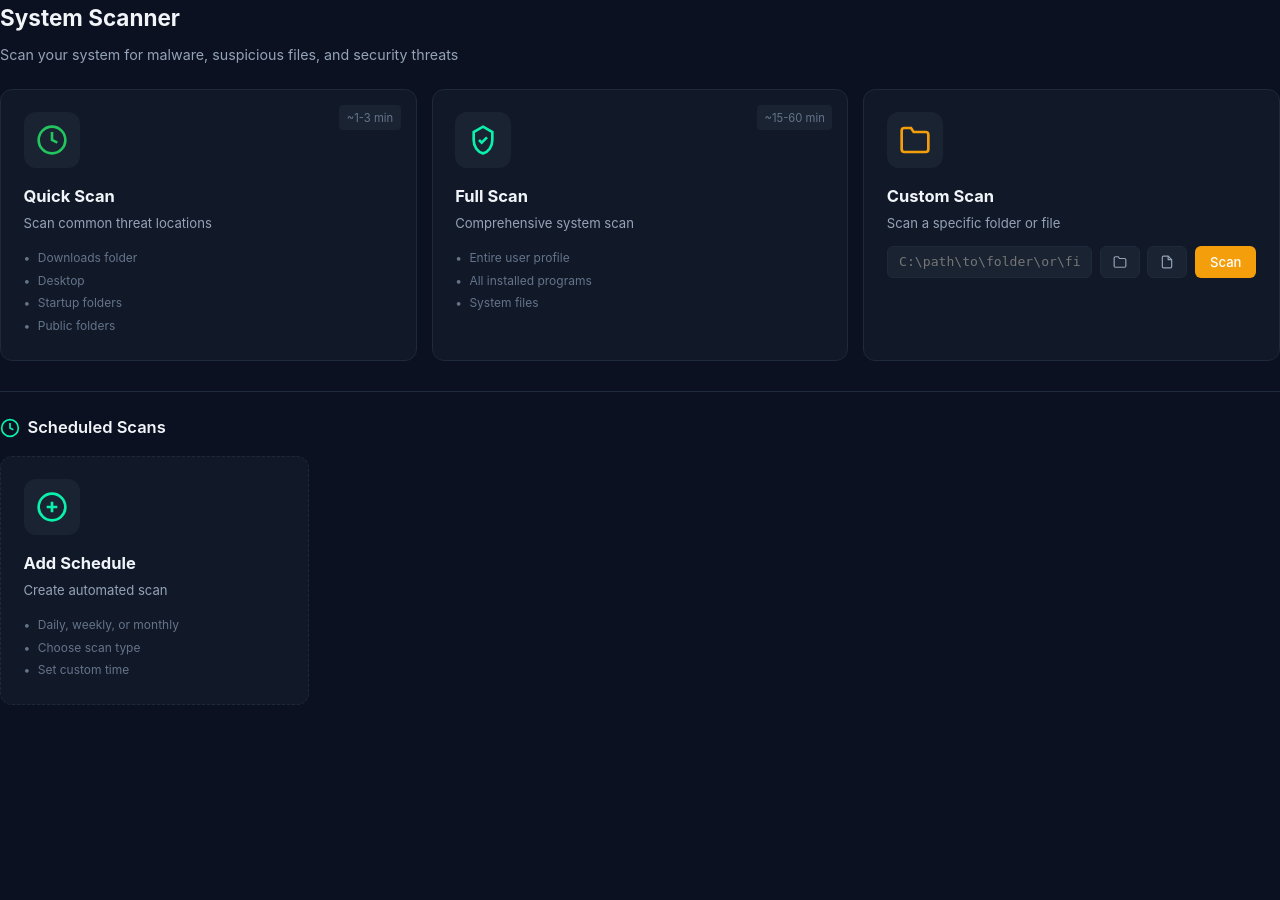
Test case: Scanner › shows a whitelisted status after trusting a detected file
Click the heading "Quick Scan".
click(69, 196)  # box [24,186,115,206]
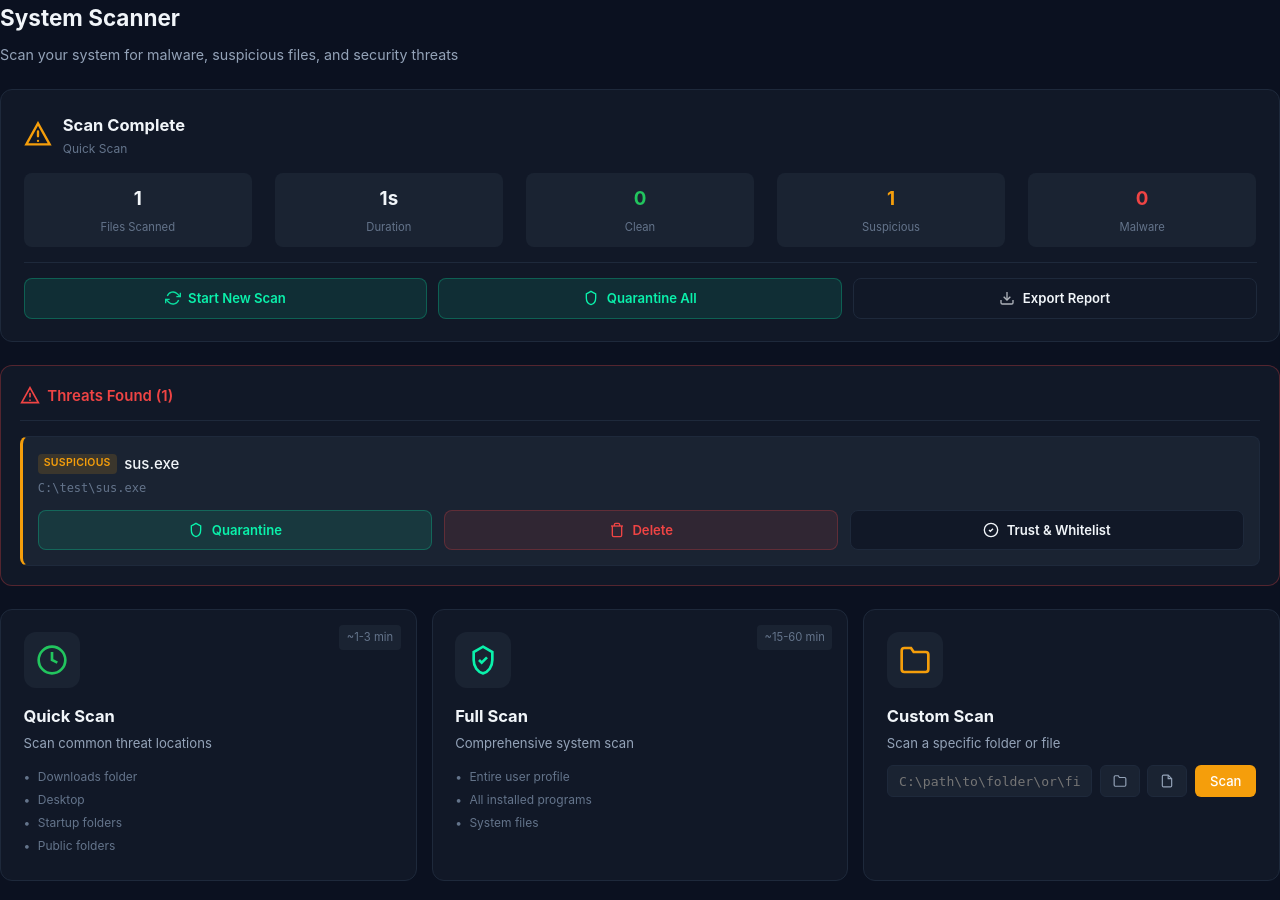
Result: the button "Trust & Whitelist" is shown
Click the button "Trust & Whitelist".
click(1047, 530)  # box [850,510,1244,550]
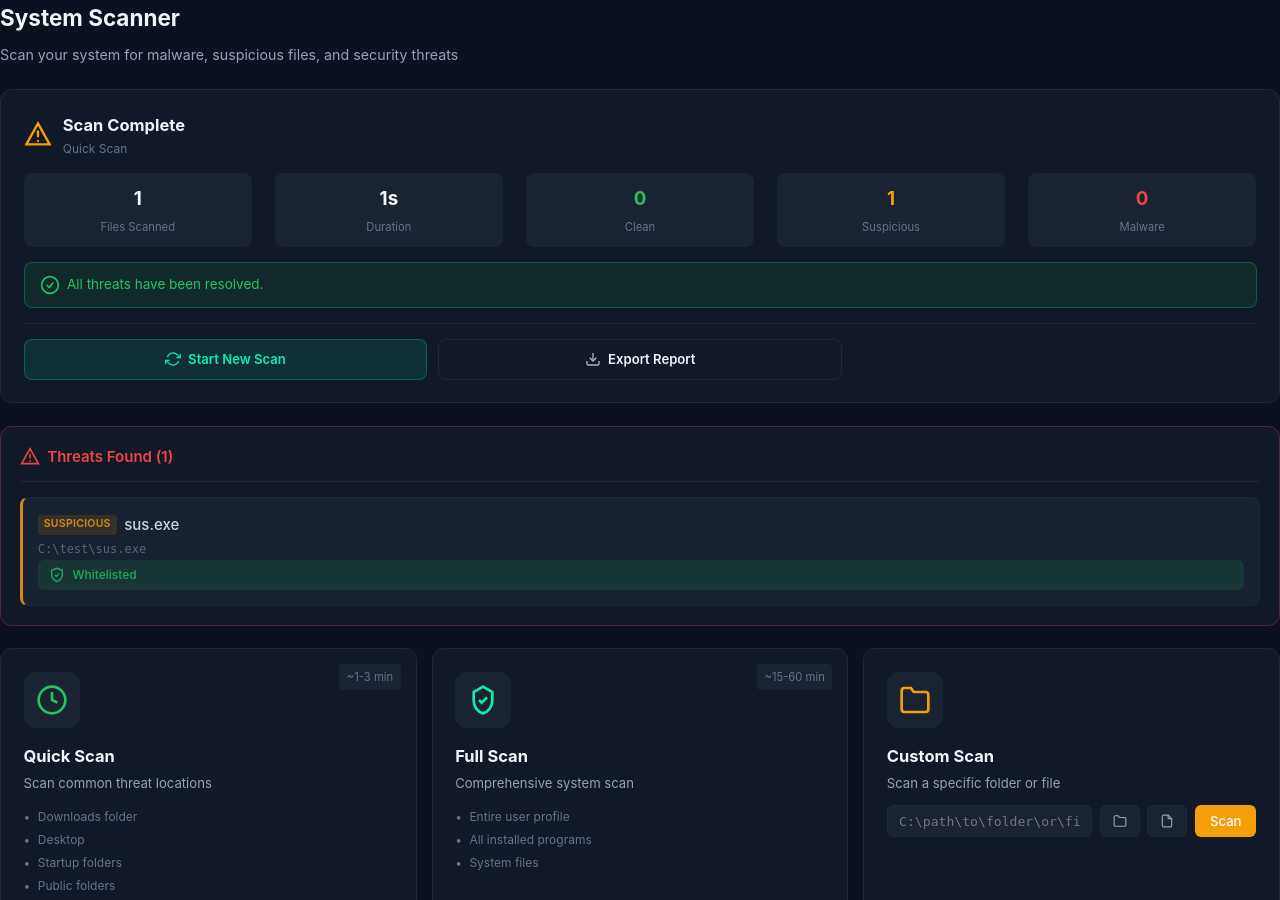
Result: the text "Whitelisted" is shown at [38,560,1244,590]
